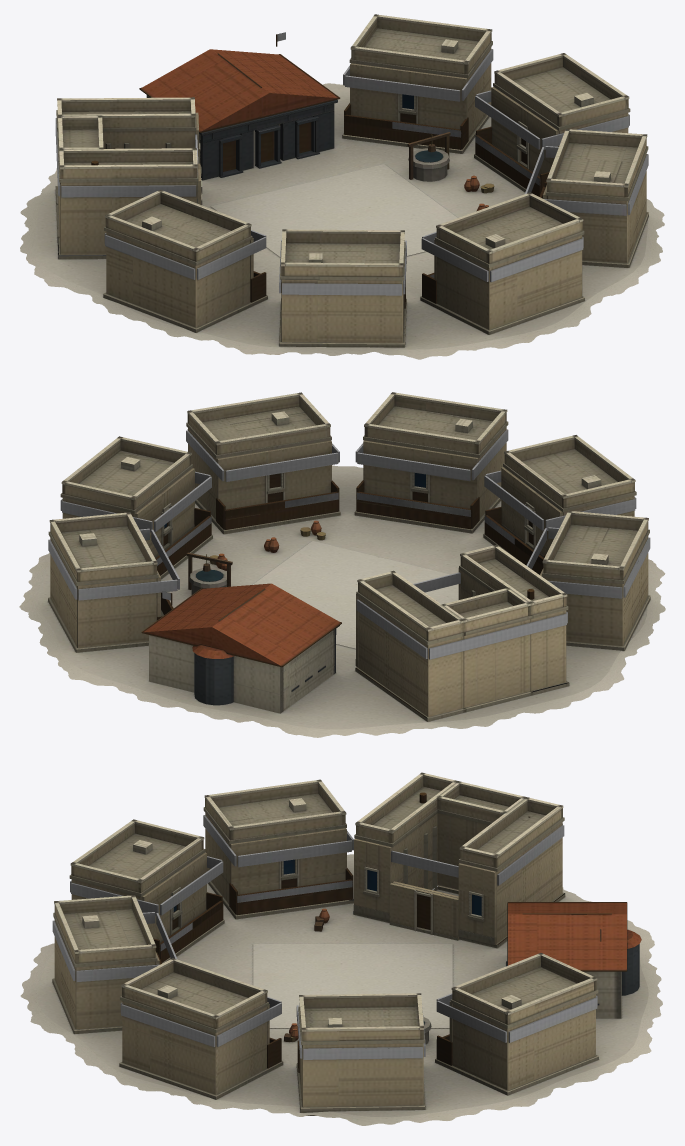
Rendered from kingdoms-town-small-a-israelite-a5ba59f8.glb.
3 views of the same model, one above another, from view 1: azimuth 30°, elevation 25°; view 2: azimuth 150°, elevation 25°; view 3: azimuth 270°, elevation 25° (orthographic).
Parts seen in each view (by area): view 1: LOD0; view 2: LOD0; view 3: LOD0.
Boxes of the visible parts, left/top/right/bottom form: LOD0: left=20, top=14, right=664, bottom=359; LOD0: left=19, top=392, right=665, bottom=737; LOD0: left=20, top=772, right=662, bottom=1125.
Size of what is drawn, in the model's own units: 4.03 by 0.6357 by 3.96.
Materials: 3 (3 with a texture image).
